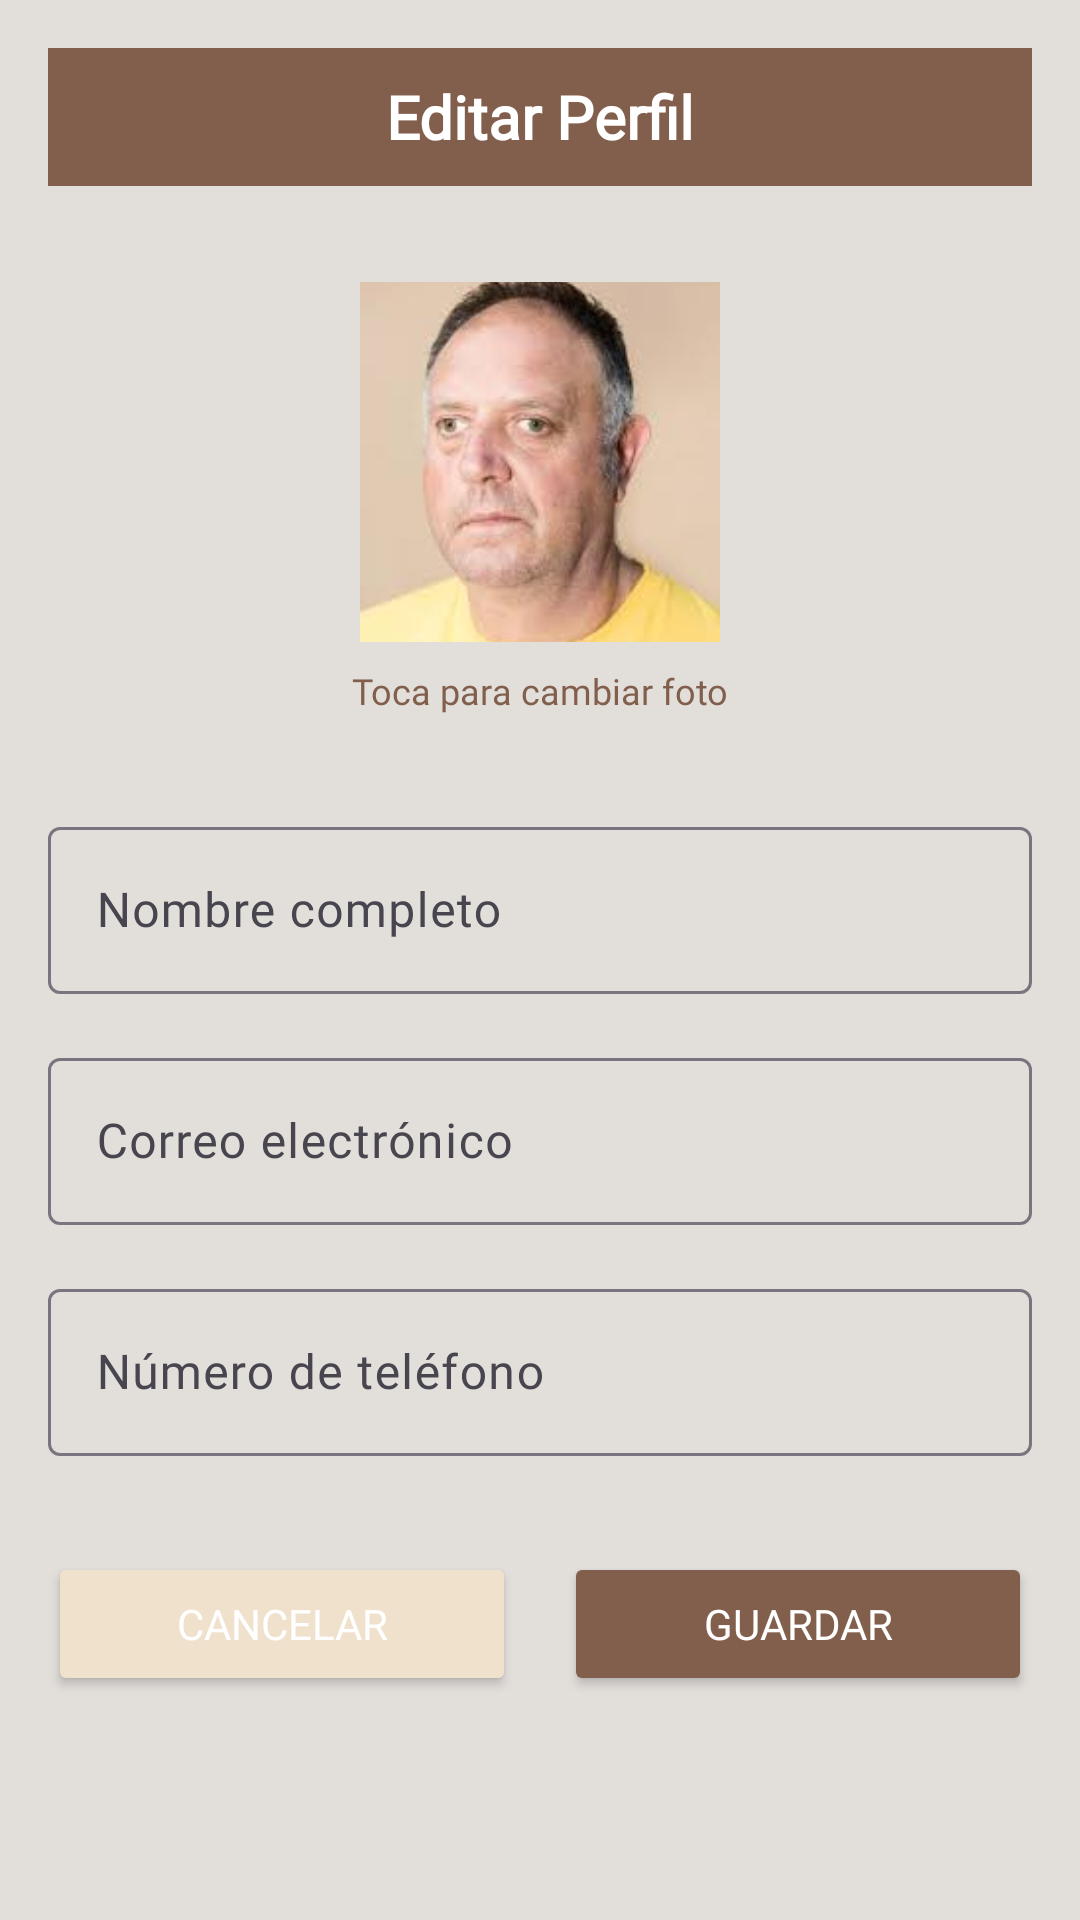

Icon click points for this 1080×1920 phone screenshot, format [x,y]:
Foto de perfil: [540,462]
